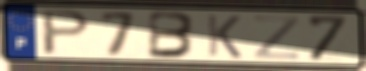7: (306, 13, 352, 63), (98, 11, 140, 57)
B: (146, 10, 198, 60)
K: (204, 13, 244, 60)
P: (40, 8, 94, 57)
Z: (252, 14, 302, 61)
